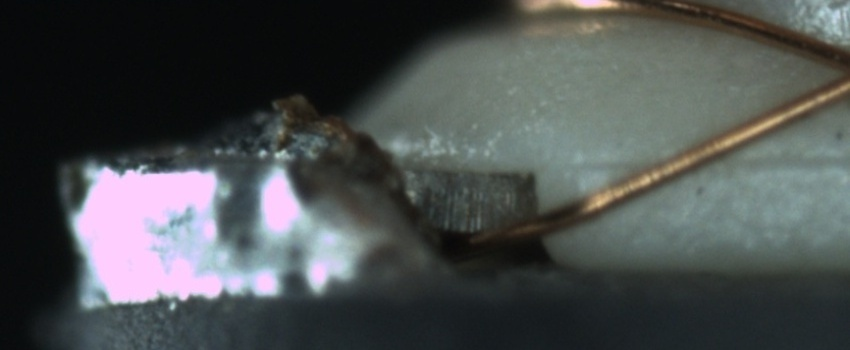CL: (808, 35, 850, 108)
DL: (569, 132, 850, 195)
